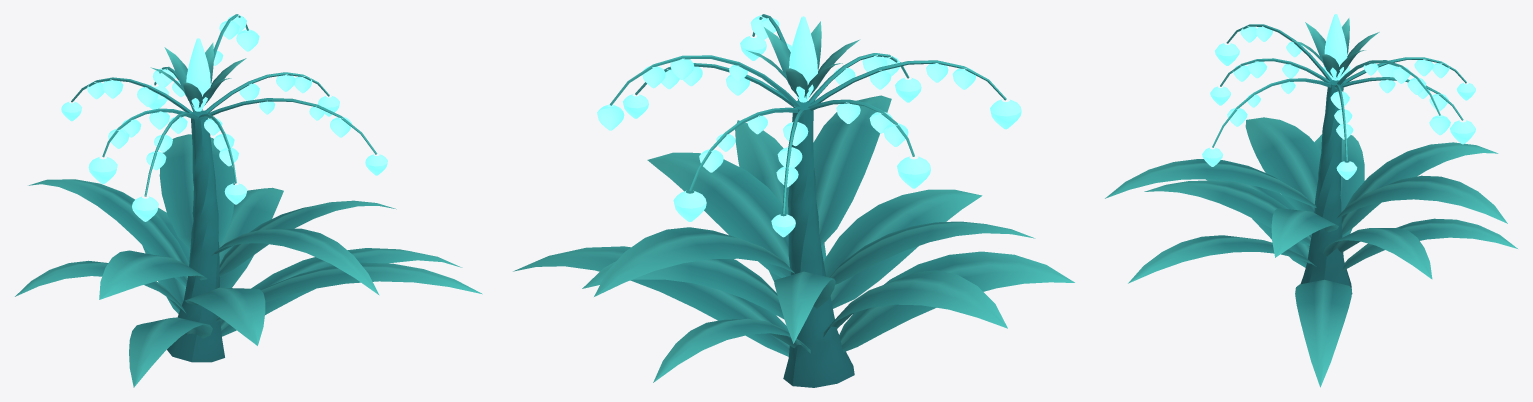
File: lantern_bloom_lod0.glb
3 views of the same model, side by side, from view 1: azimuth 30°, elevation 25°; view 2: azimuth 150°, elevation 25°; view 3: azimuth 270°, elevation 25° (orthographic). The views are drawn at different scales.
Visible parts, largest first — view 1: LanternBloom; view 2: LanternBloom; view 3: LanternBloom.
Part boxes in pixels (x1=…): LanternBloom: x1=15, y1=14, x2=482, y2=387; LanternBloom: x1=513, y1=14, x2=1074, y2=387; LanternBloom: x1=1105, y1=14, x2=1517, y2=387.
Size of the model in its own units: 2.56 by 1.74 by 2.32.
